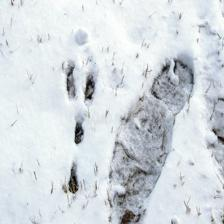rabbit: (60, 64, 99, 148)
